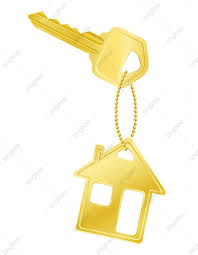key: (23, 8, 159, 90)
